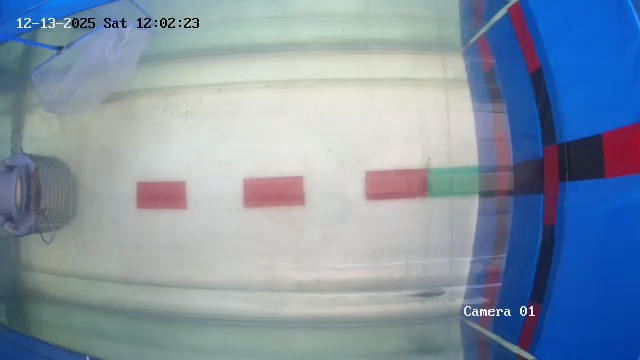fish: (403, 279, 450, 306)
